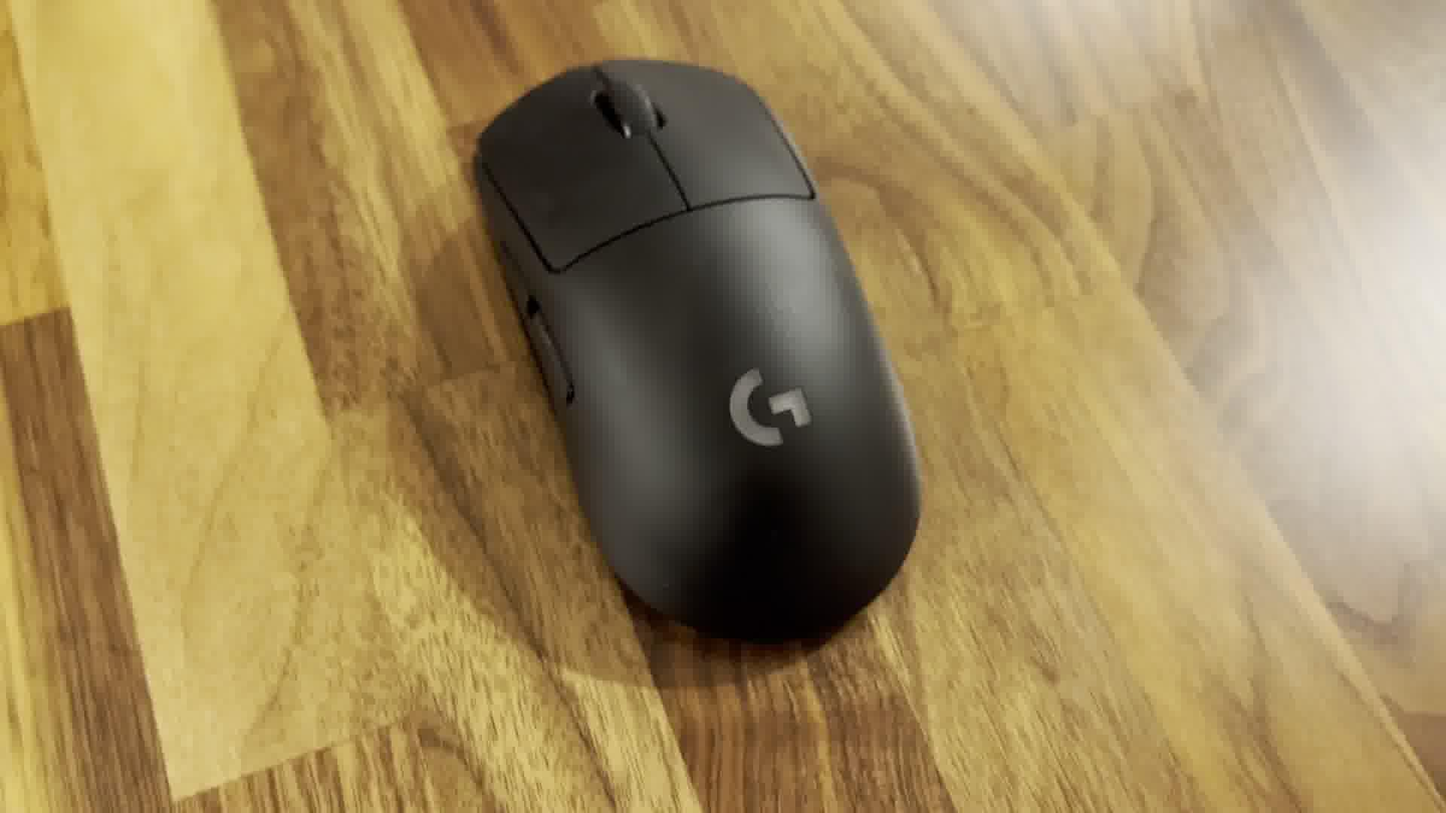logicool: (471, 50, 925, 643)
